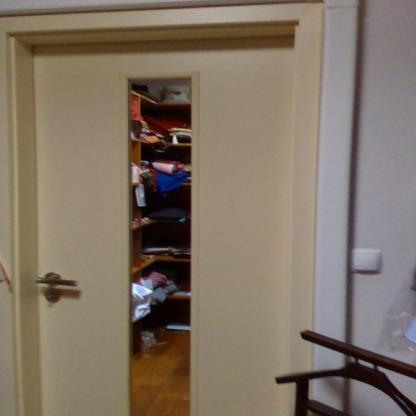door: (31, 49, 292, 416)
lever: (34, 275, 82, 290)
